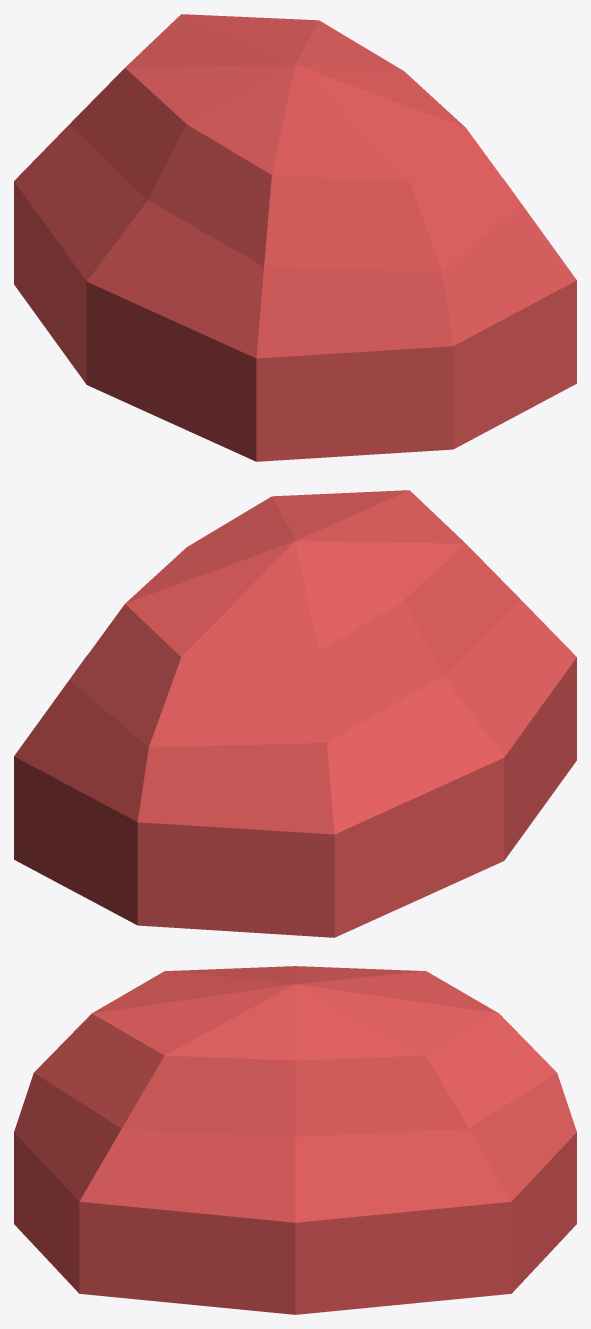
File: mesh_light_COLLISION.fbx
3 views of the same model, one above another, from view 1: azimuth 30°, elevation 25°; view 2: azimuth 150°, elevation 25°; view 3: azimuth 270°, elevation 25° (orthographic). The views are drawn at different scales.
Parts seen in each view (by area): view 1: mesh_light_COLLISION; view 2: mesh_light_COLLISION; view 3: mesh_light_COLLISION.
Part boxes in pixels (x1=…): mesh_light_COLLISION: x1=14, y1=14, x2=576, y2=461; mesh_light_COLLISION: x1=14, y1=490, x2=576, y2=937; mesh_light_COLLISION: x1=14, y1=966, x2=576, y2=1314.
Bounding box in the file's own units: 0.8085 × 0.4979 × 1.06.
